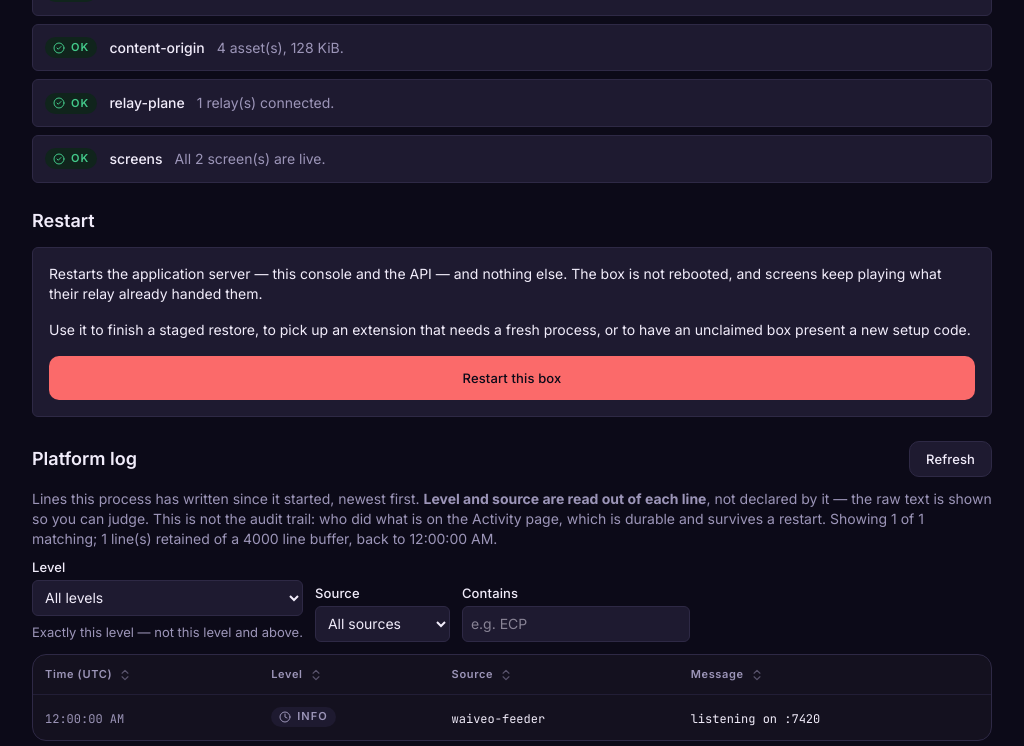
it: SystemRoute — restart › says ACCEPTED and keeps watching — it does not claim the box restarted
(page scrolled)
Click the button "Restart this box": [512, 378] box 49,356 -> 975,400
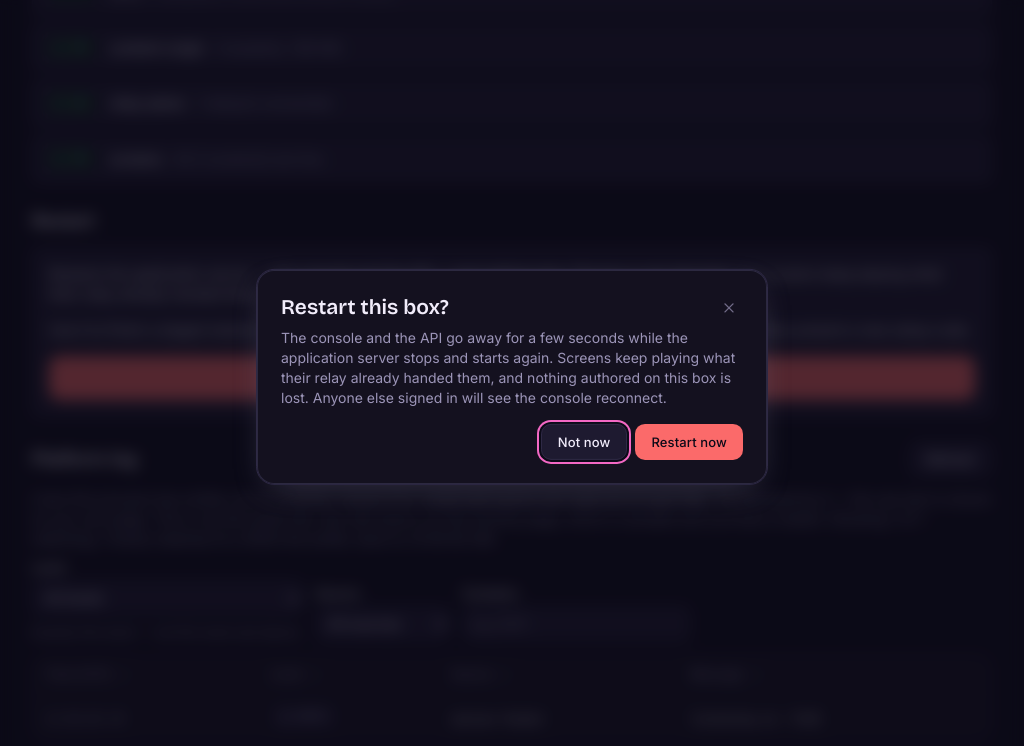
Click the button "Restart now": [689, 442] box 635,424 -> 743,460
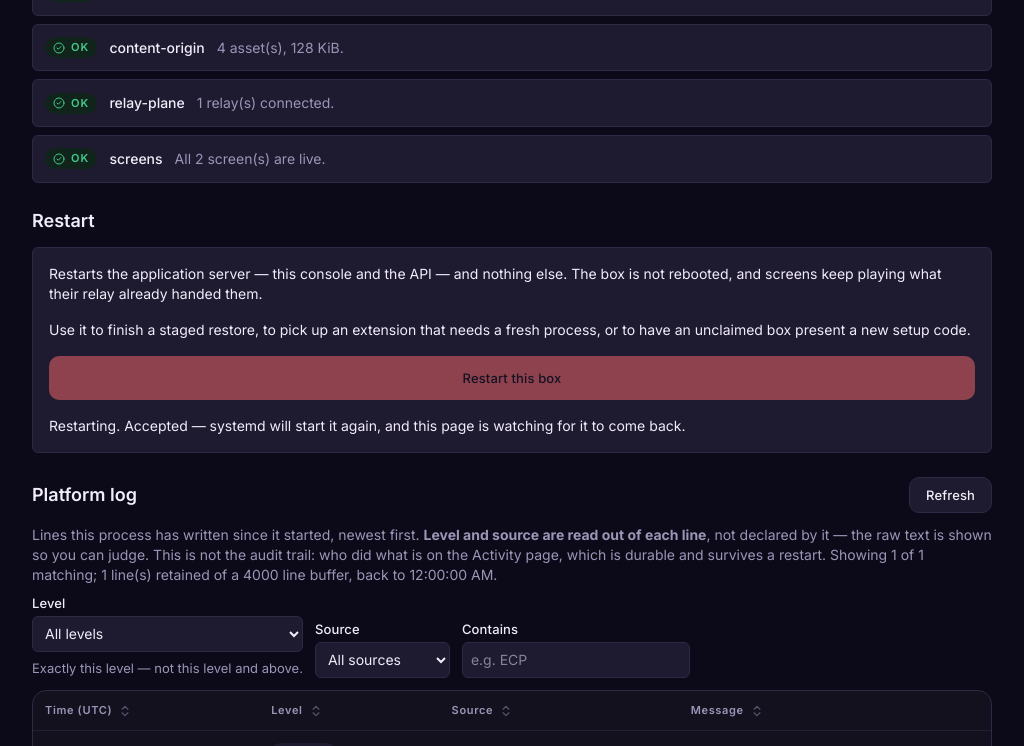
Check: the message shows "systemd will start it again", box 49,417 -> 686,434
Check: the message shows "Restarting", box 49,417 -> 686,434
